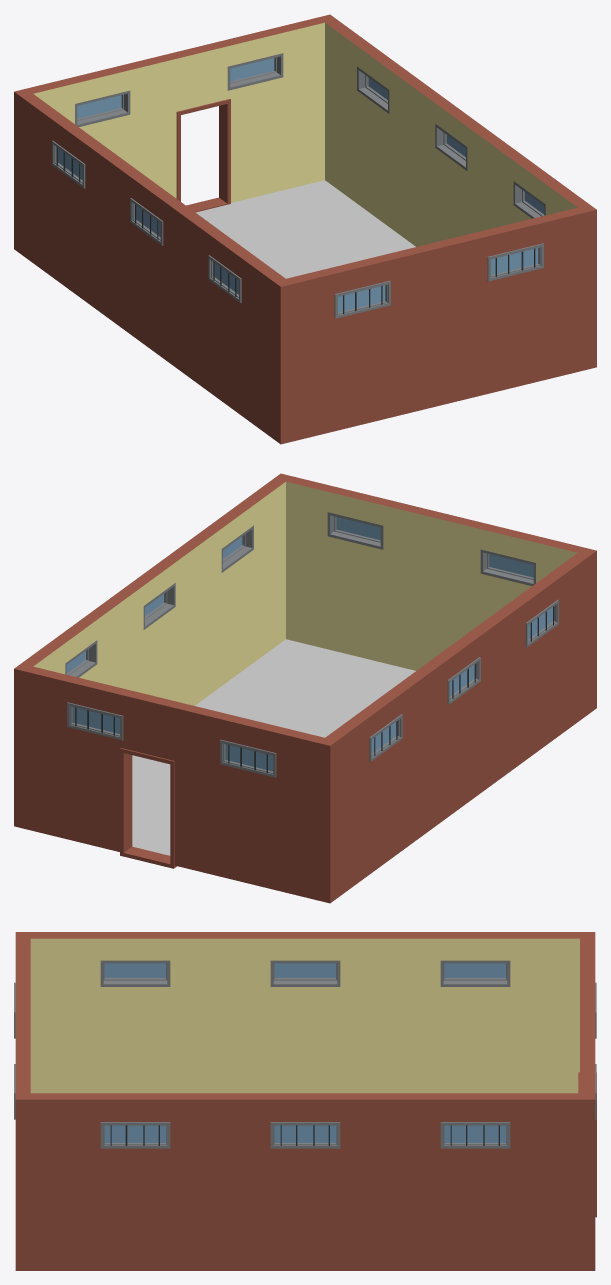
The model's file is House01_Basement.fbx.
3 views of the same model, one above another, from view 1: azimuth 30°, elevation 25°; view 2: azimuth 150°, elevation 25°; view 3: azimuth 270°, elevation 25° (orthographic). The views are drawn at different scales.
Parts seen in each view (by area): view 1: House01_Basement; view 2: House01_Basement; view 3: House01_Basement.
Part boxes in pixels (x1=…): House01_Basement: x1=14, y1=14, x2=596, y2=444; House01_Basement: x1=14, y1=473, x2=596, y2=903; House01_Basement: x1=14, y1=932, x2=596, y2=1270.
Size of the model in its own units: 655 by 315 by 955.
